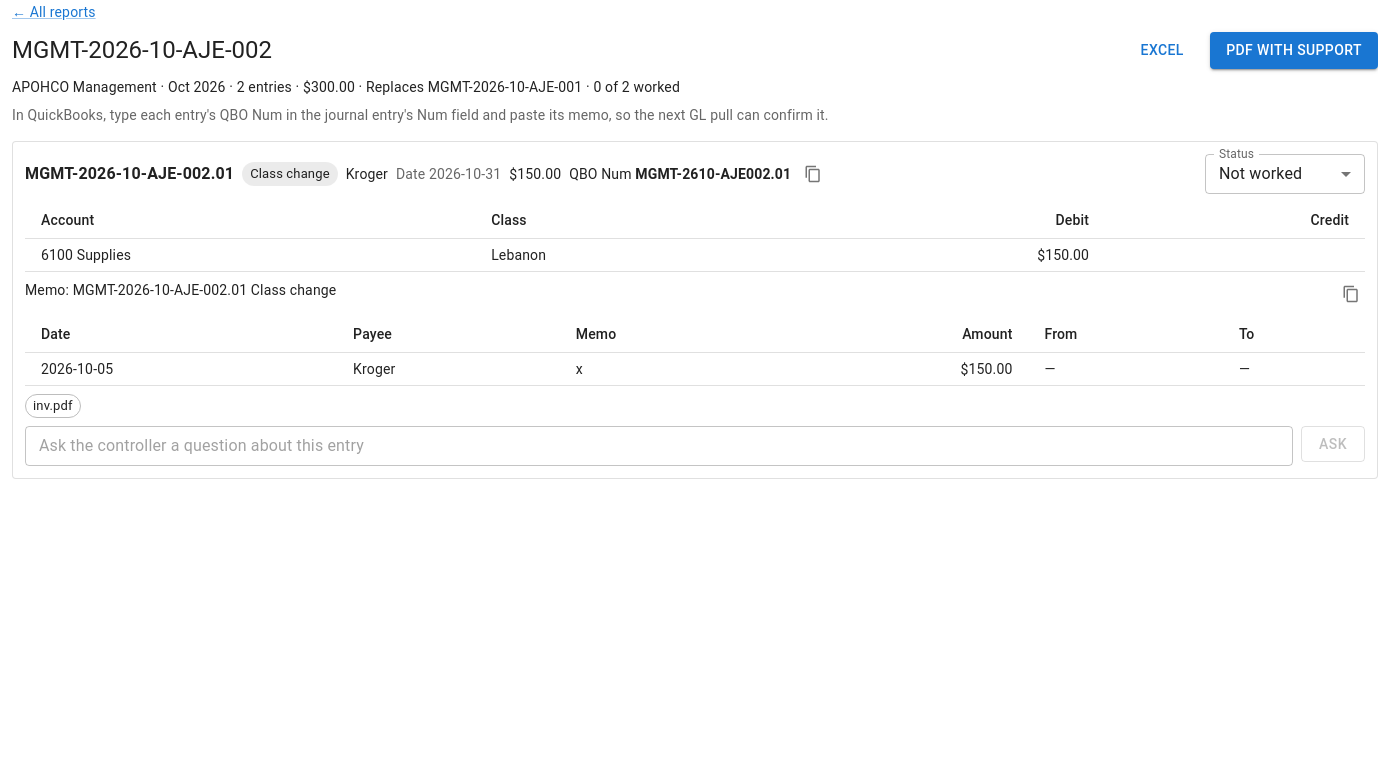
Scenario: one report › asking a question adds it to the thread
Type "Which class?" into the text box named "Comment on MGMT-2026-10-AJE-002.01". click: (659, 446)
box: [39, 434, 1279, 457]
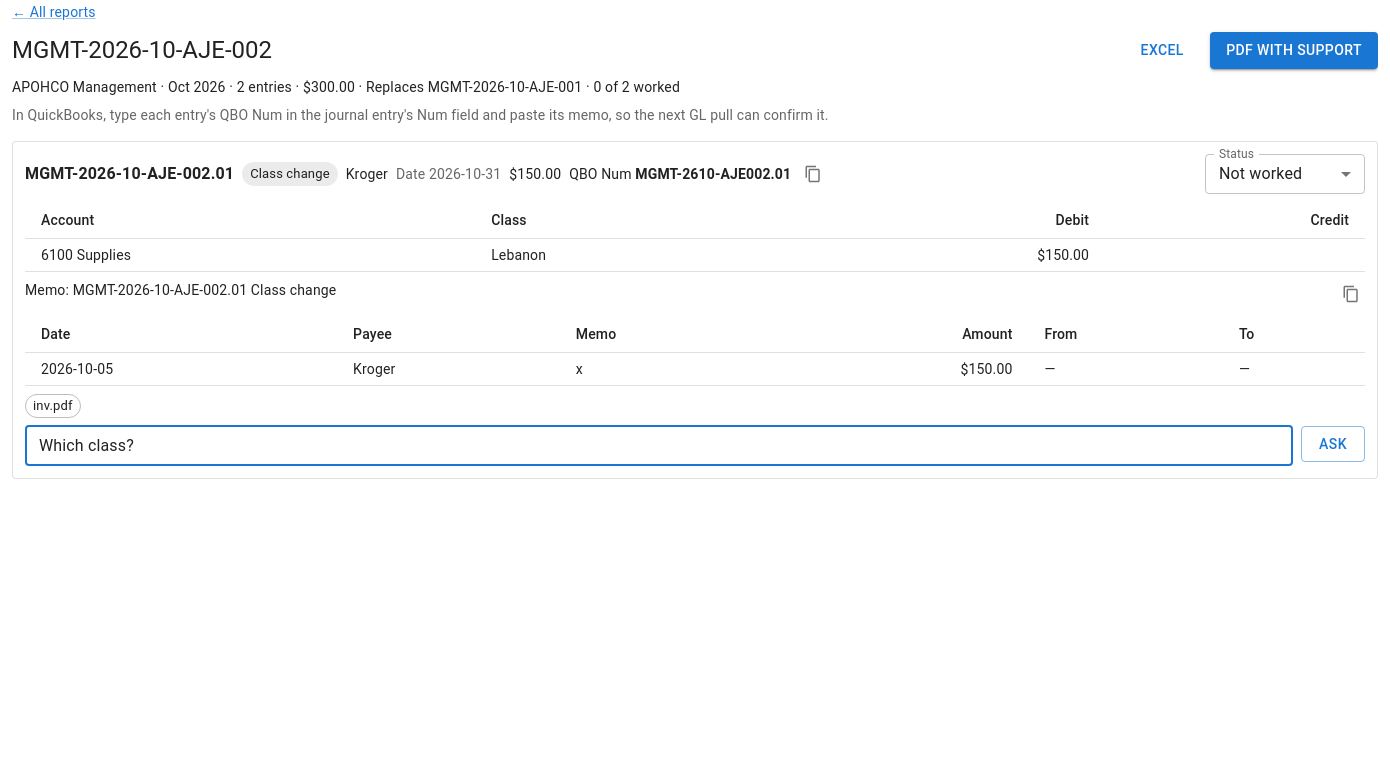
Click the button "Ask". click: (1333, 444)
box: [1301, 426, 1365, 462]
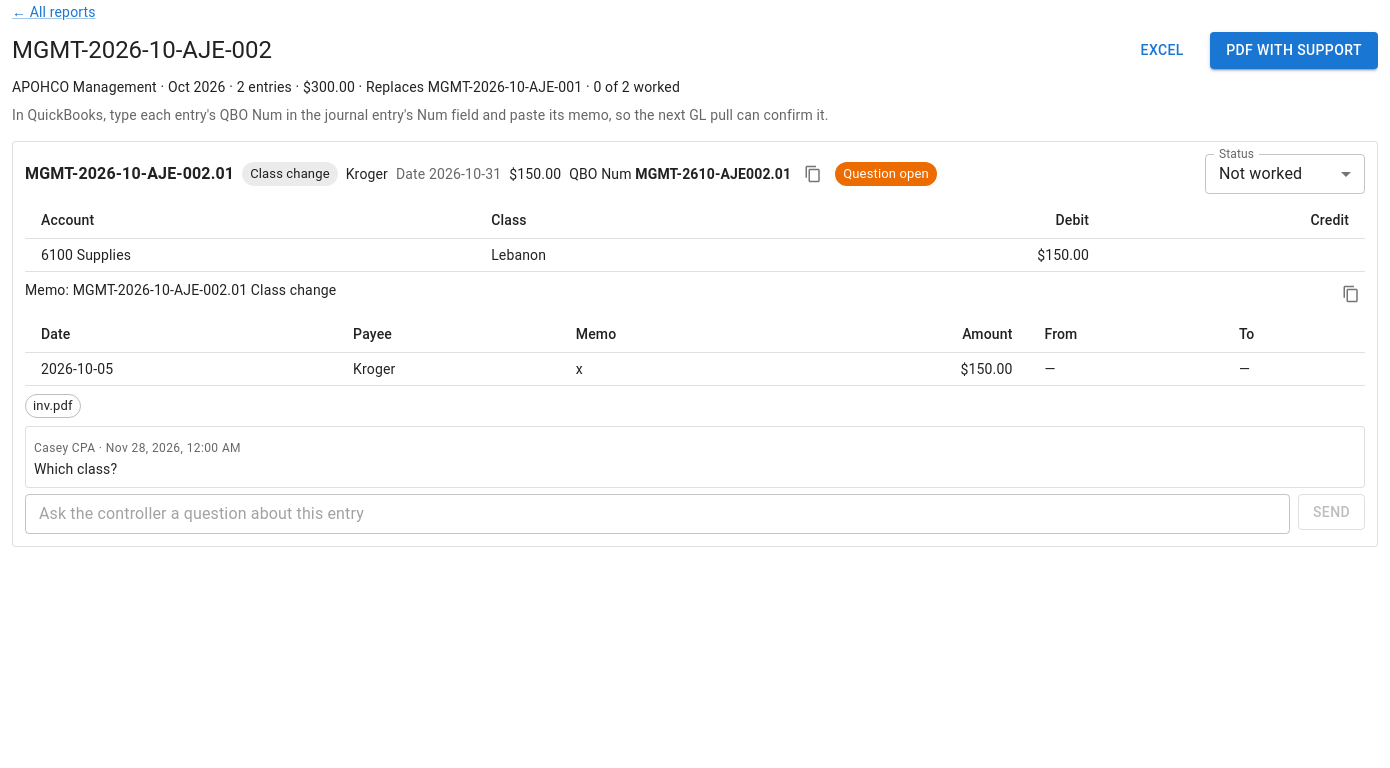
Result: the text "Which class?" is shown at [34, 461, 117, 477]
Result: the text "Question open" is shown at [843, 166, 929, 181]
